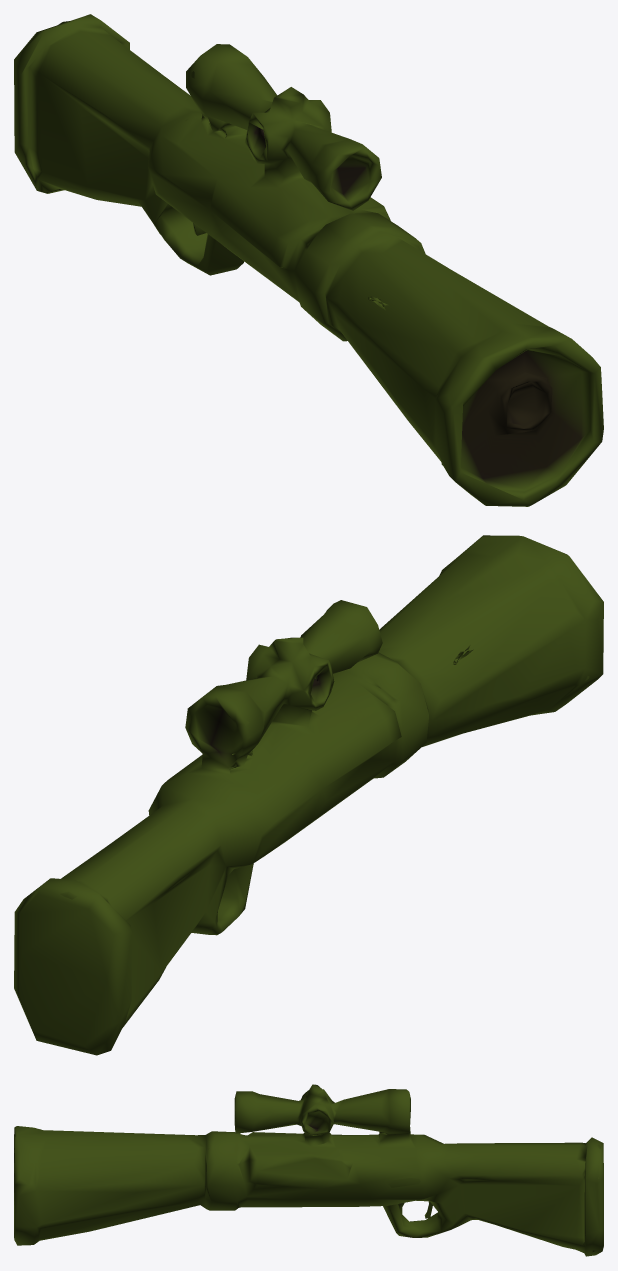
Rendered from gen3d-bazooka-lod0.glb.
The picture shows the model from 3 angles, top to bottom: view 1: azimuth 30°, elevation 25°; view 2: azimuth 150°, elevation 25°; view 3: azimuth 270°, elevation 25°; orthographic projection. The views are drawn at different scales.
Parts seen in each view (by area): view 1: part_0; view 2: part_0; view 3: part_0.
Boxes of the visible parts, x1=… form: part_0: x1=14, y1=14, x2=603, y2=506; part_0: x1=14, y1=535, x2=603, y2=1055; part_0: x1=14, y1=1084, x2=603, y2=1256.
Bounding box in the file's own units: 0.6411 × 1 × 3.35.
